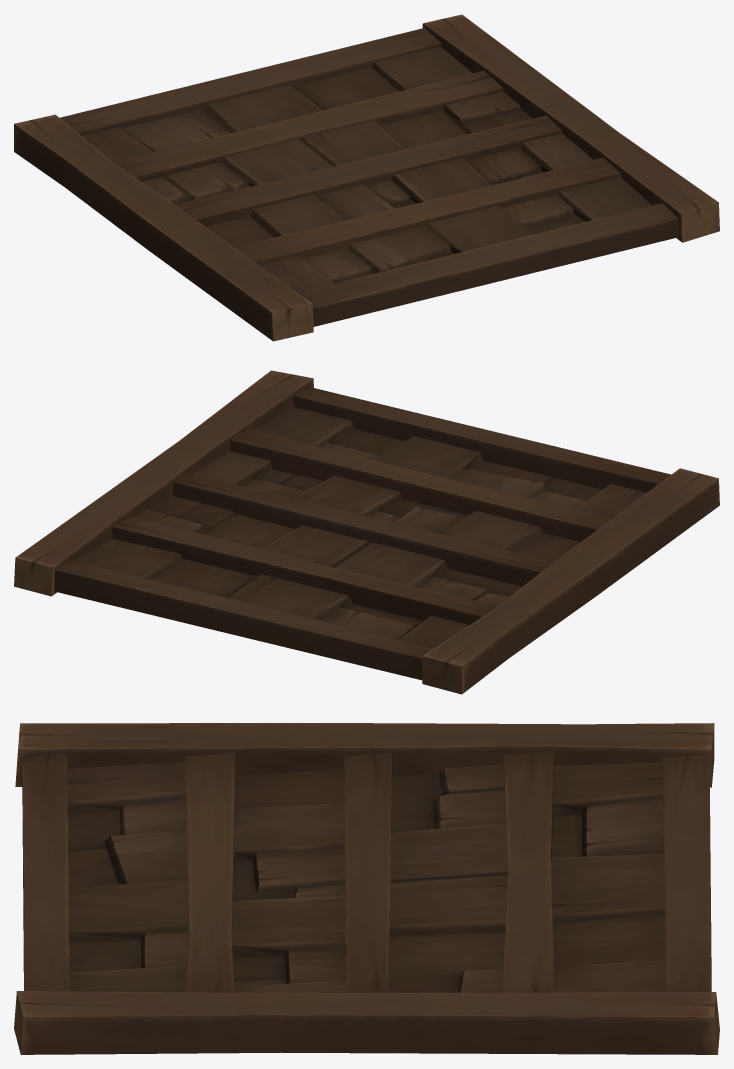
File: Roof01.FBX
3 renders of one model, top to bottom at view 1: azimuth 30°, elevation 25°; view 2: azimuth 150°, elevation 25°; view 3: azimuth 270°, elevation 25°, orthographic. The views are drawn at different scales.
Parts seen in each view (by area): view 1: Object412; view 2: Object412; view 3: Object412.
Part boxes in pixels (x1,y1,x2,y2): Object412: (14,14,719,341); Object412: (14,370,719,694); Object412: (14,723,719,1054).
Size of the model in its own units: 1.99 by 0.1191 by 2.02.
1 material, 1 textured.
